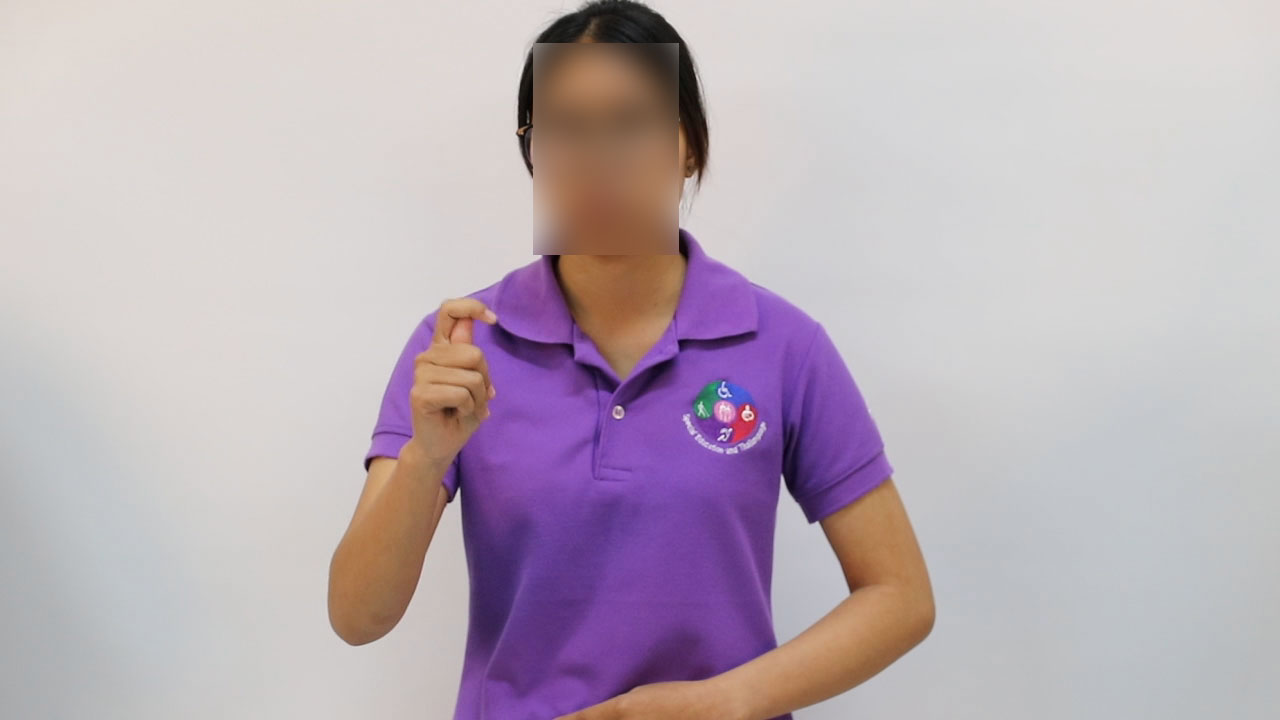or: (406, 295, 501, 475)
